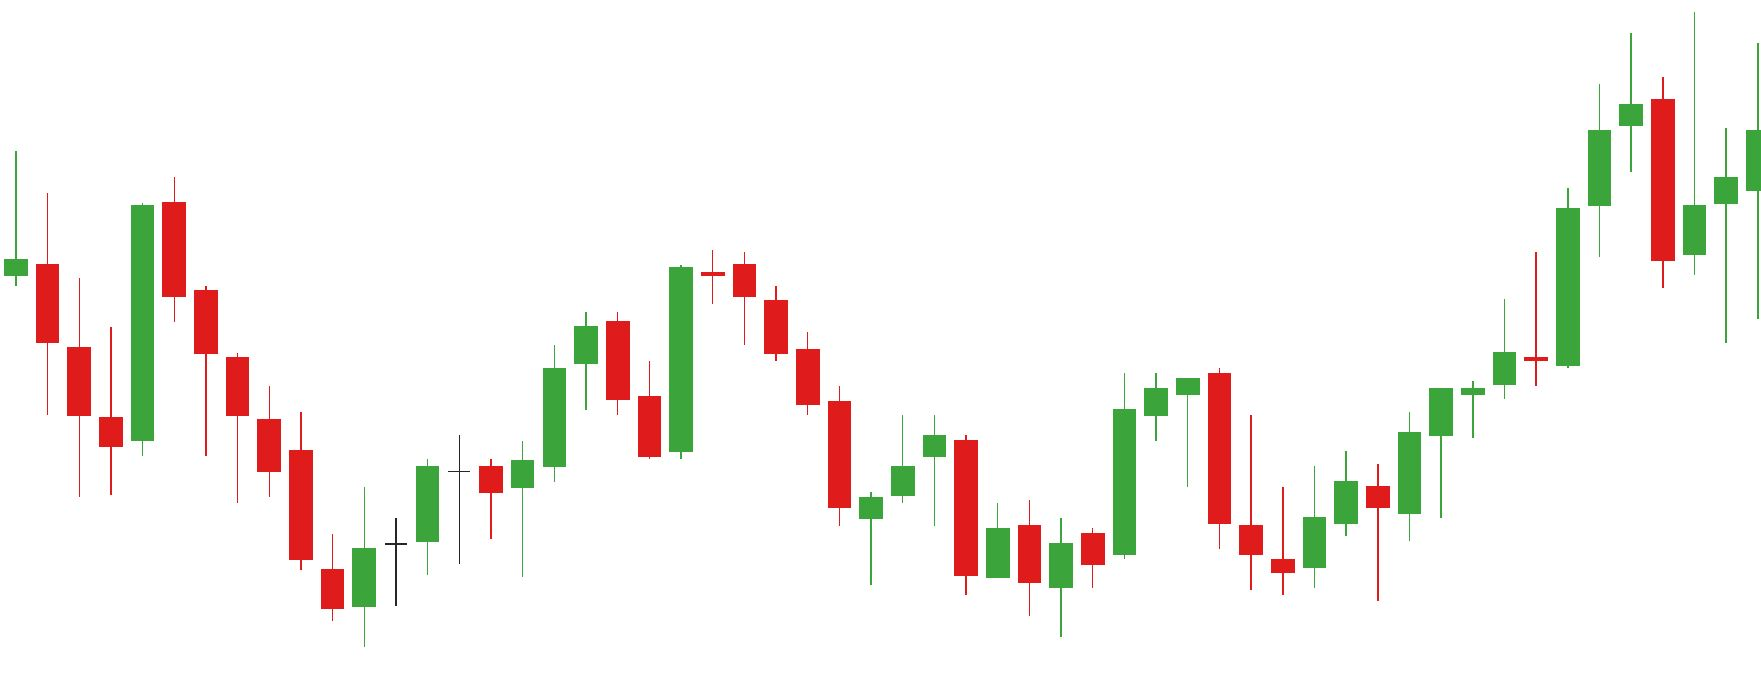buy: (856, 468, 1077, 639)
